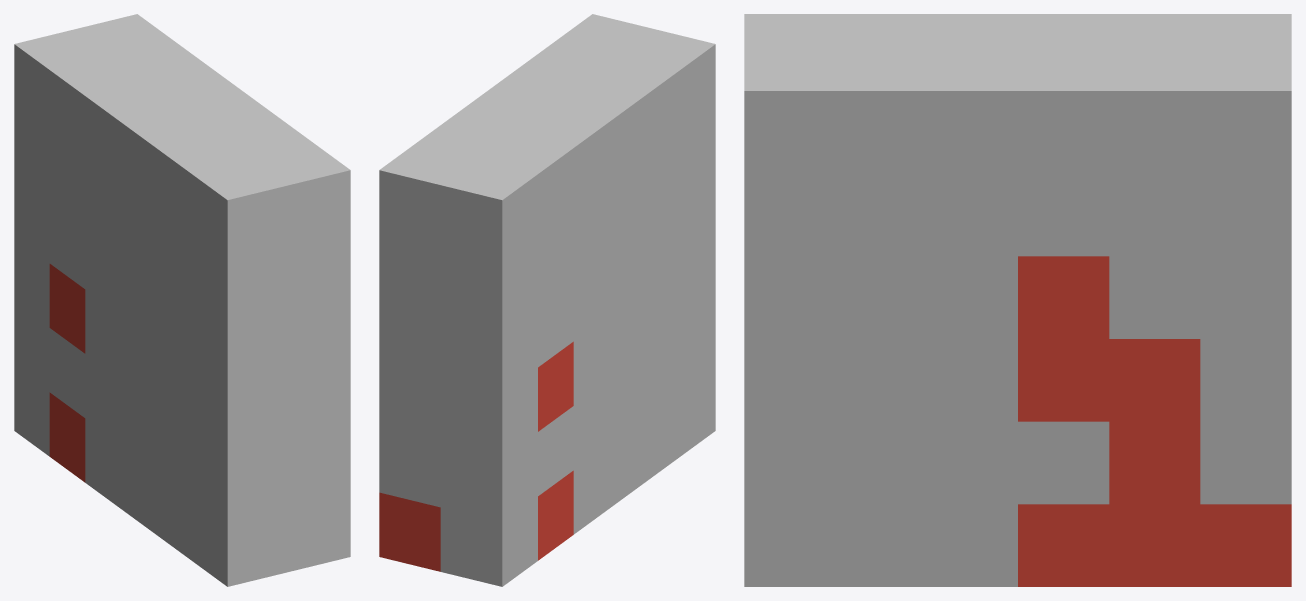
Rendered from tiling.obj.
3 renders of one model, left to right at view 1: azimuth 30°, elevation 25°; view 2: azimuth 150°, elevation 25°; view 3: azimuth 270°, elevation 25°, orthographic. The views are drawn at different scales.
Parts seen in each view (by area): view 1: copy_6, copy_5, copy_8, copy_4, copy_2, copy_7, copy_3, copy_1; view 2: copy_8, copy_7, copy_3, copy_6, copy_5, copy_4, copy_1, copy_2; view 3: copy_3, copy_4, copy_1, copy_2, copy_8, copy_6, copy_5, copy_7.
Part boxes in pixels (<box>): copy_6: <box>85,159,350,393</box>; copy_5: <box>85,368,350,586</box>; copy_8: <box>14,29,217,262</box>; copy_4: <box>156,92,350,367</box>; copy_2: <box>156,299,350,571</box>; copy_7: <box>14,238,156,456</box>; copy_3: <box>49,14,243,288</box>; copy_1: <box>49,264,85,482</box>; copy_8: <box>379,81,644,393</box>; copy_7: <box>379,290,644,586</box>; copy_3: <box>379,92,573,442</box>; copy_6: <box>573,29,715,340</box>; copy_5: <box>573,238,715,534</box>; copy_4: <box>486,14,680,288</box>; copy_1: <box>379,341,573,571</box>; copy_2: <box>644,264,680,482</box>; copy_3: <box>1018,14,1291,421</box>; copy_4: <box>744,14,1017,421</box>; copy_1: <box>1018,256,1291,586</box>; copy_2: <box>744,256,1017,586</box>; copy_8: <box>926,14,1291,256</box>; copy_6: <box>744,14,1017,256</box>; copy_5: <box>744,421,1017,504</box>; copy_7: <box>1018,421,1291,504</box>.
Size of the model in its own units: 2 by 6 by 6.
